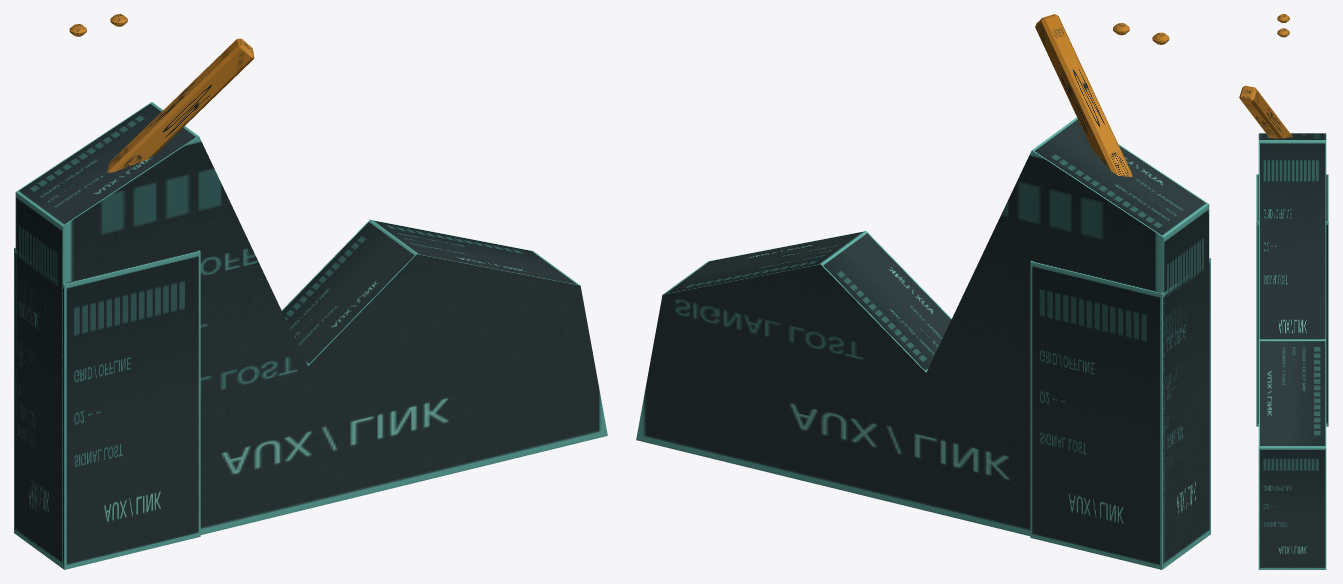
The model's file is wall_fragment_LOD0.obj.
3 renders of one model, left to right at view 1: azimuth 30°, elevation 25°; view 2: azimuth 150°, elevation 25°; view 3: azimuth 270°, elevation 25°, orthographic. The views are drawn at different scales.
Parts seen in each view (by area): view 1: L02_wall_fragment_LOD0; view 2: L02_wall_fragment_LOD0; view 3: L02_wall_fragment_LOD0.
Part boxes in pixels (bbox=[...]): L02_wall_fragment_LOD0: bbox=[14, 14, 607, 569]; L02_wall_fragment_LOD0: bbox=[636, 14, 1210, 569]; L02_wall_fragment_LOD0: bbox=[1239, 14, 1328, 569].
Size of the model in its own units: 2 by 1.83 by 0.3961.
1 material, 1 textured.
